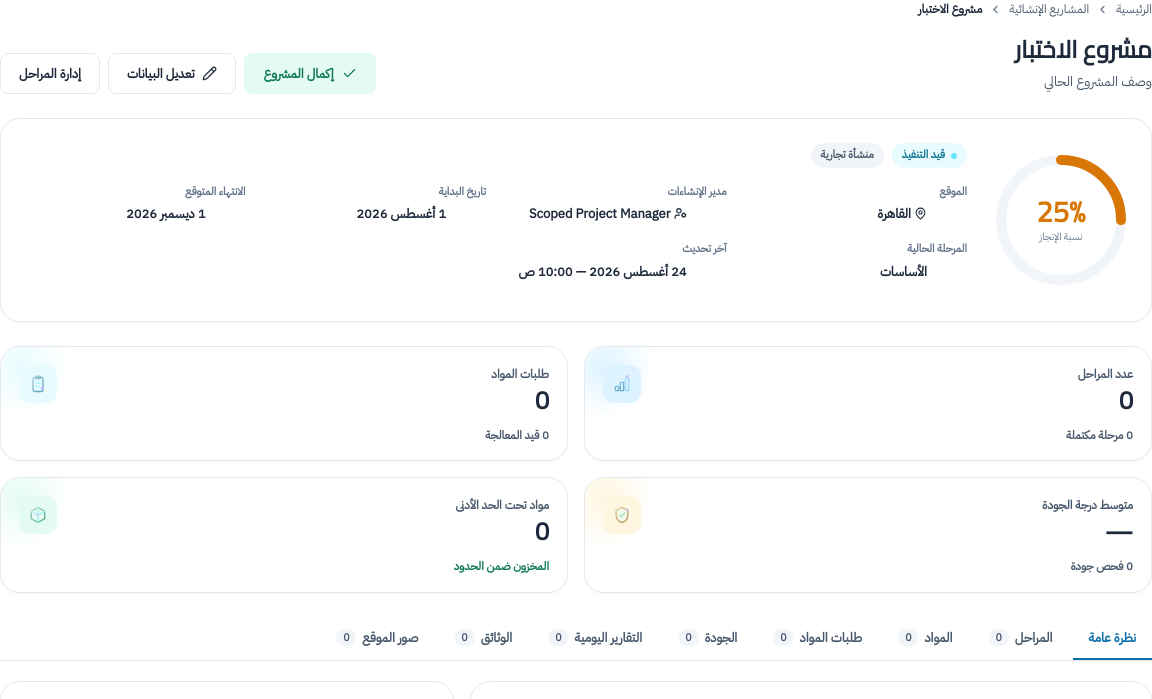
Test: Construction Manager project detail › exposes the assigned-project metadata editor without assignment controls
Click the button "تعديل البيانات" at (172, 74), box 108,53 -> 236,94
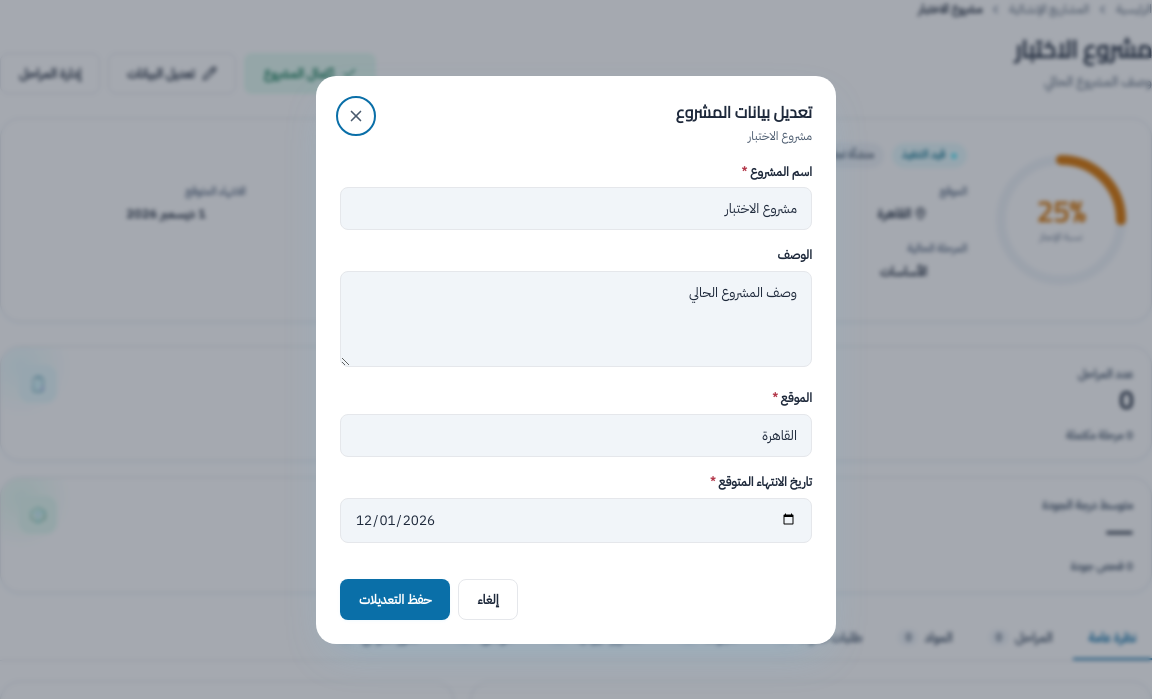
Expected: the field labelled "اسم المشروع*" holds "مشروع الاختبار", 340,187 -> 812,230
